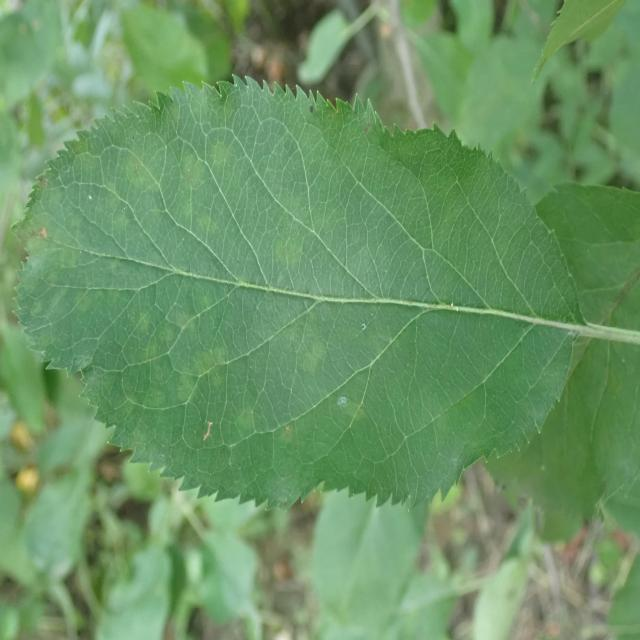scab: (61, 111, 572, 488)
